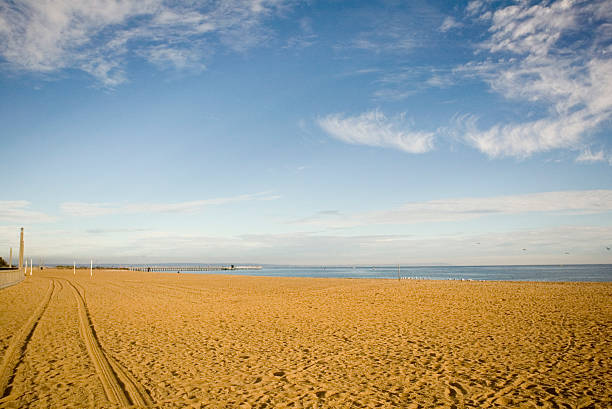vehicle_track: (65, 280, 152, 406), (0, 279, 55, 397)
